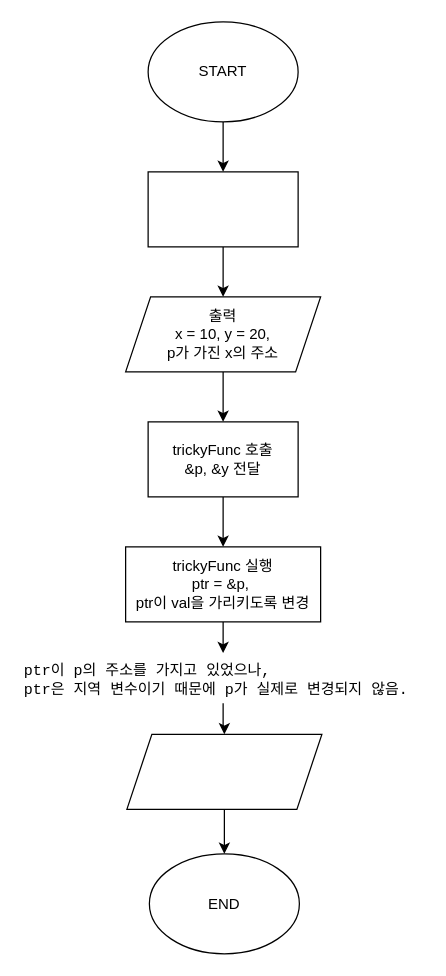
The diagram is 446 pixels wide and 976 high, and some of its shapes have lost their labels. Each missing label, with the box of its shape:
변수 초기화 x = 10, y = 20, p = &x: (147, 171, 298, 247)
출력(변화 없음) x = 10, y = 20 p가 가진 x의 주소: (126, 733, 322, 809)
